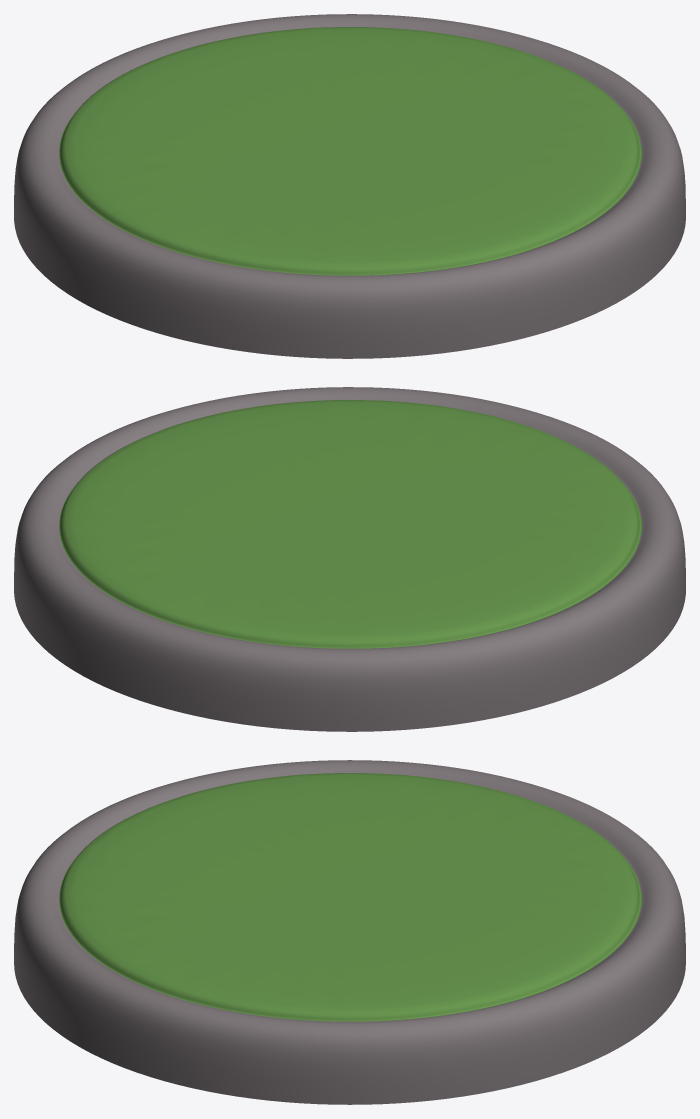
The model's file is Island_1.fbx.
3 views of the same model, one above another, from view 1: azimuth 30°, elevation 25°; view 2: azimuth 150°, elevation 25°; view 3: azimuth 270°, elevation 25° (orthographic).
Visible parts, largest first — view 1: Island_1; view 2: Island_1; view 3: Island_1.
Part boxes in pixels (x1=…): Island_1: x1=14, y1=14, x2=685, y2=358; Island_1: x1=14, y1=387, x2=685, y2=731; Island_1: x1=14, y1=760, x2=685, y2=1104.
Bounding box in the file's own units: 24.25 × 2.97 × 24.25.
